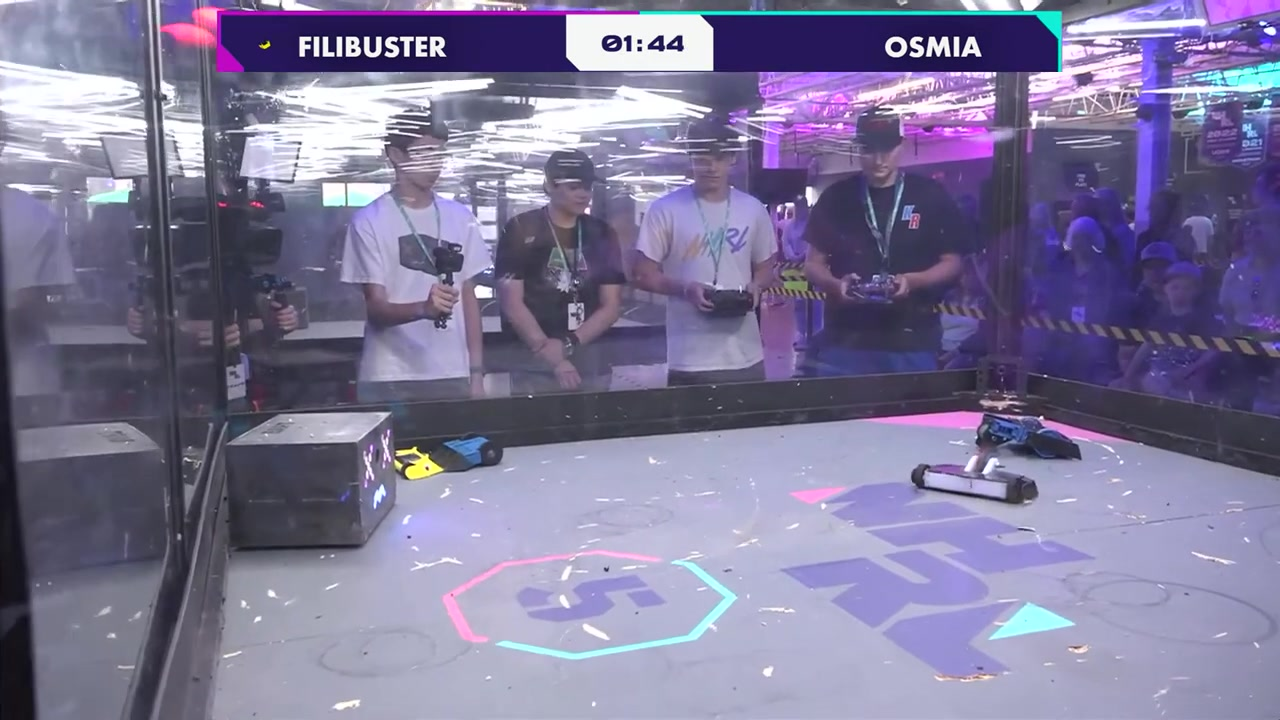combatbot: (914, 452, 1038, 505), (973, 409, 1082, 463)
housebot: (224, 412, 397, 554)
minibot: (434, 429, 507, 475), (391, 431, 448, 480)
